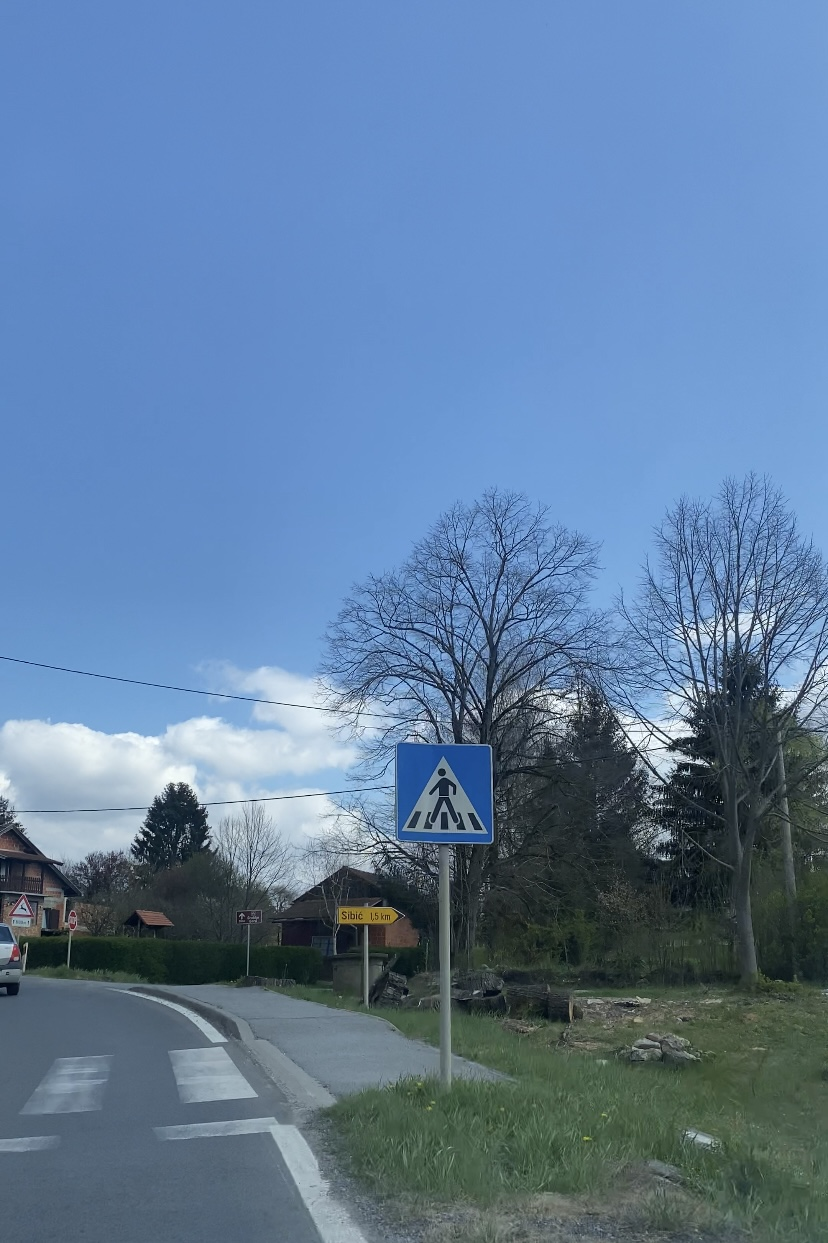Pješački prijelaz: (395, 742, 494, 844)
